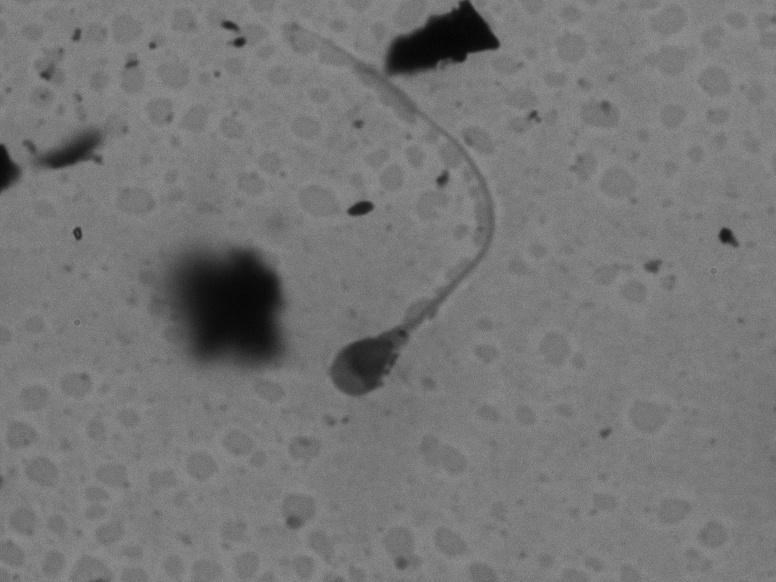Abnormal: (265, 10, 543, 417)
